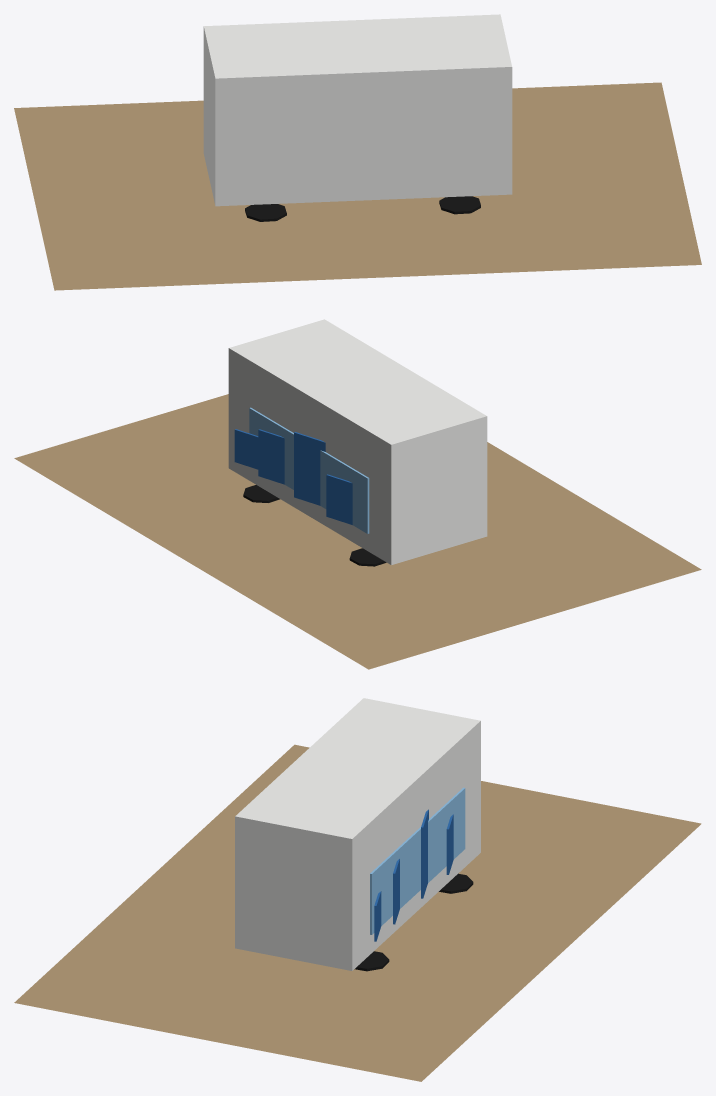
Rendered from r39_foodtruck.glb.
3 renders of one model, top to bottom at view 1: azimuth 30°, elevation 25°; view 2: azimuth 150°, elevation 25°; view 3: azimuth 270°, elevation 25°, orthographic. The views are drawn at different scales.
Visible parts, largest first — view 1: r39_foodtruck_lod0; view 2: r39_foodtruck_lod0; view 3: r39_foodtruck_lod0.
Boxes of the visible parts, box(x1,y1,x2,y2) form: r39_foodtruck_lod0: box(14, 14, 701, 290); r39_foodtruck_lod0: box(14, 319, 701, 669); r39_foodtruck_lod0: box(14, 698, 701, 1081).
Size of what is drawn, in the model's own units: 14.24 by 3.1 by 12.28.
